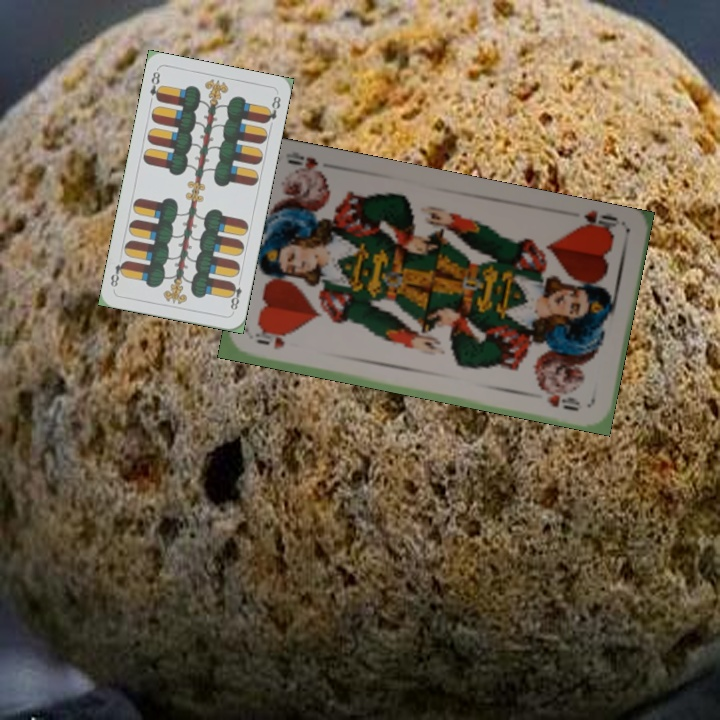E8: (225, 275, 244, 315), (146, 67, 165, 104)
HO: (572, 207, 620, 239), (251, 329, 287, 352)
